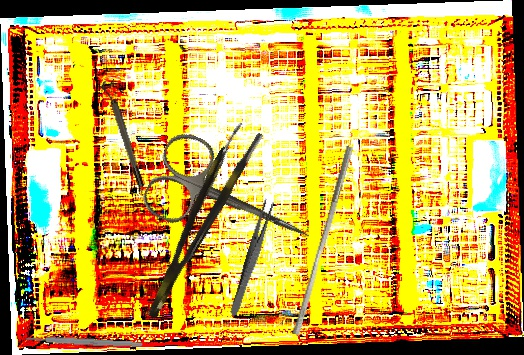Dressing Forceps: (228, 197, 276, 319)
Fixation Ring: (99, 78, 147, 190)
Iris Scissors: (138, 126, 327, 279)
Pusher: (291, 144, 354, 337)
Scalpel Handle: (24, 334, 144, 349)
Tissue Forceps: (130, 120, 265, 321)
